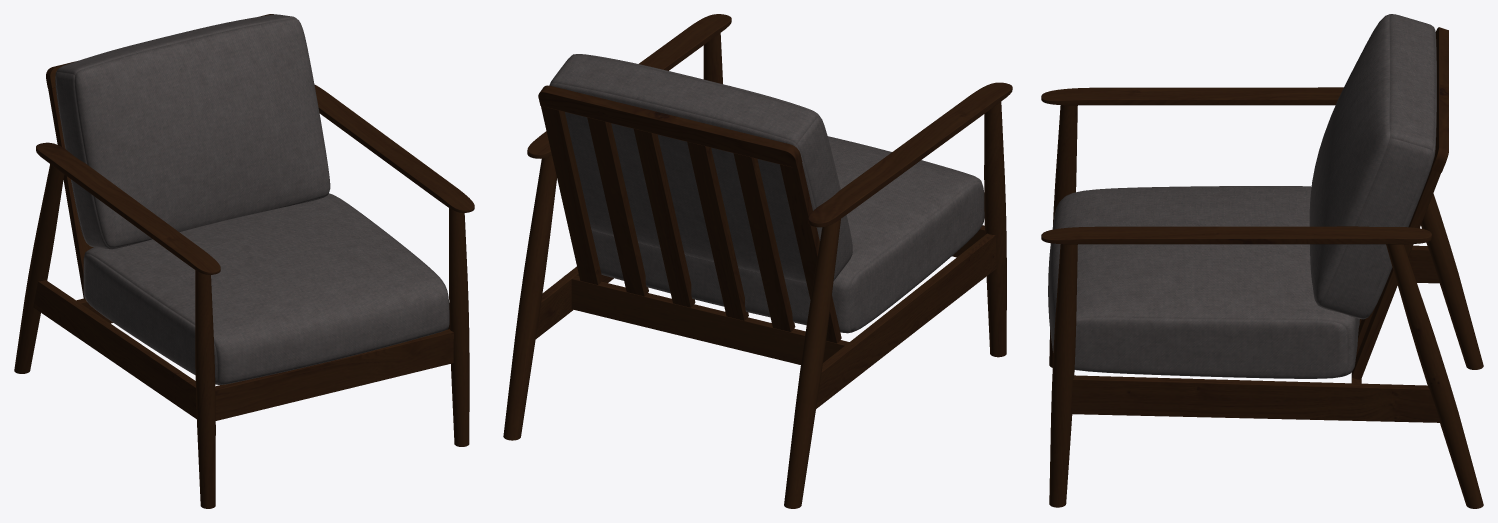
Rendered from chair_66_07.001.fbx.
The picture shows the model from 3 angles, left to right: view 1: azimuth 30°, elevation 25°; view 2: azimuth 150°, elevation 25°; view 3: azimuth 270°, elevation 25°; orthographic projection. The views are drawn at different scales.
Visible parts, largest first — view 1: chair_66_07.001; view 2: chair_66_07.001; view 3: chair_66_07.001.
Boxes of the visible parts, box(x1,y1,x2,y2) form: chair_66_07.001: box(14, 14, 474, 508); chair_66_07.001: box(503, 14, 1012, 508); chair_66_07.001: box(1041, 14, 1483, 508).
Bounding box in the file's own units: 76.92 × 87.18 × 95.18.
1 material, 1 textured.
